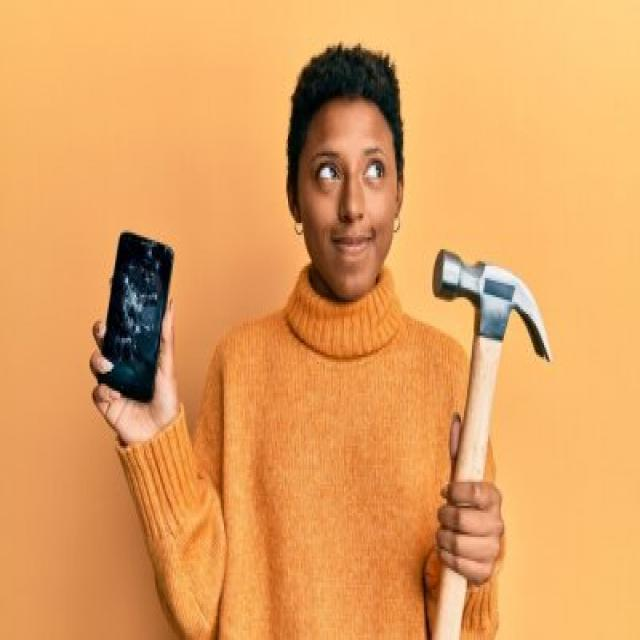hammer: (434, 250, 550, 481), (432, 571, 468, 639)
